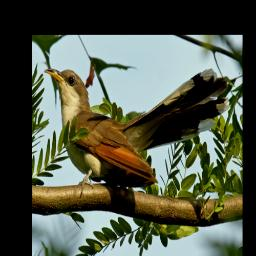Cuckoo: (44, 68, 231, 191)
